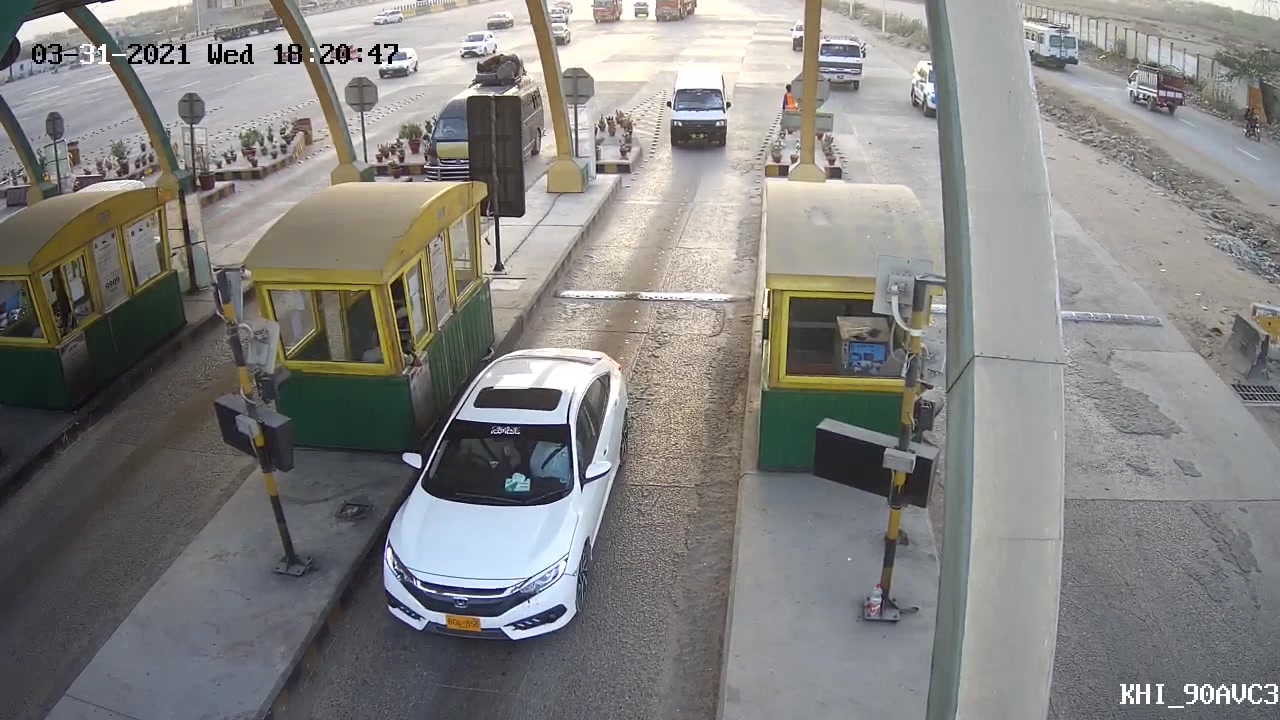F1: (376, 345, 635, 645)
